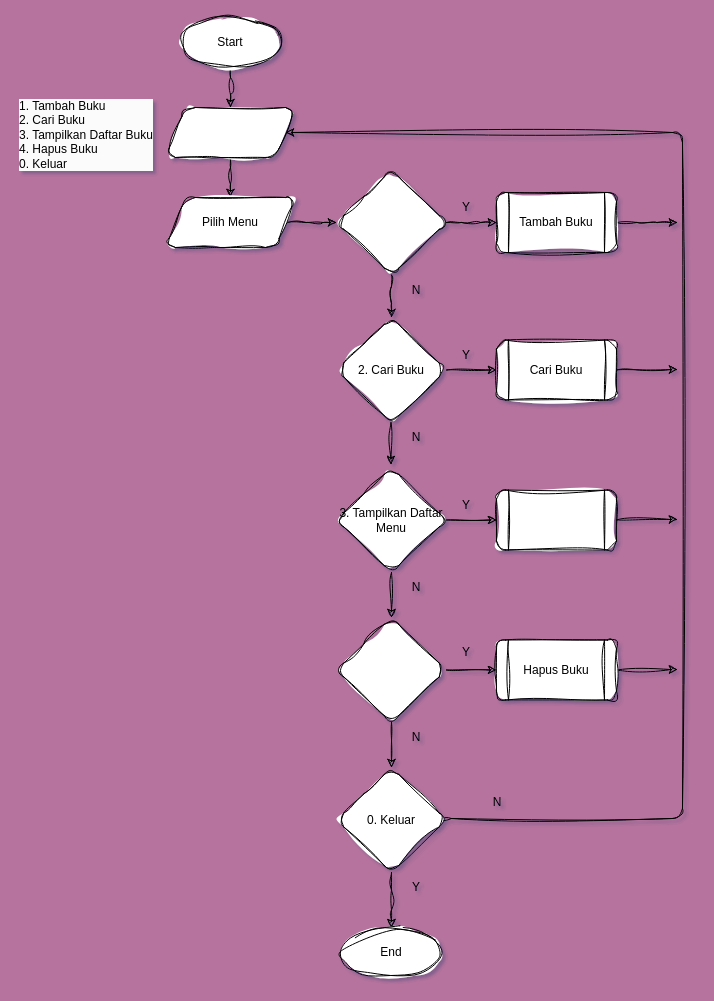
Image size: 714x1001. Some labels were removed from this diagram. Here are the shapes that lost their labels. From the top down, the centre of each, then its label:
At (230,132): "Daftar Menu".
At (391,222): "1 .Tambah Buku".
At (556,519): "Tampilkan Daftar Menu".
At (391,669): "4, Hapus Buku".
